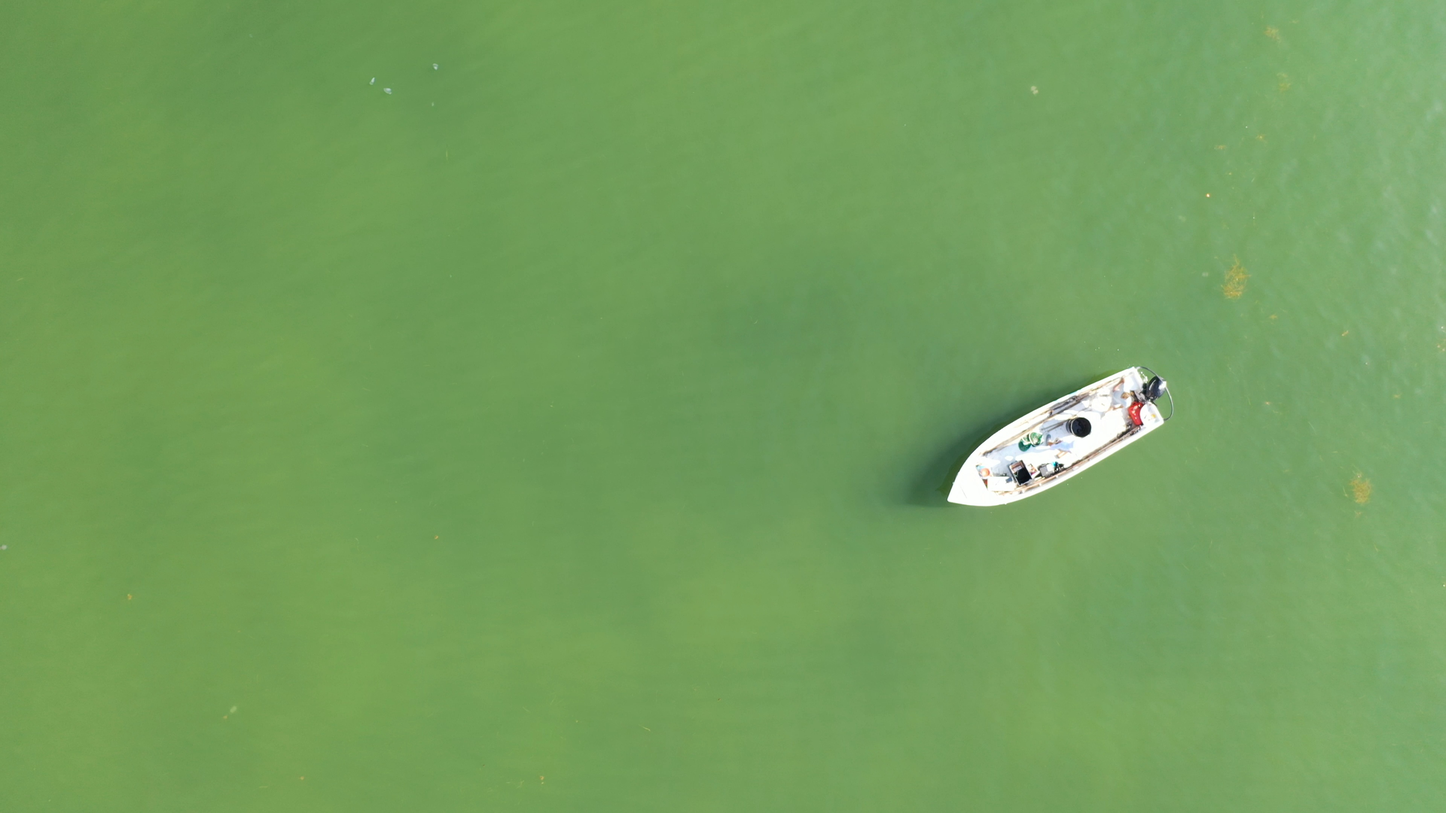meduse: (226, 706, 238, 713), (1030, 85, 1039, 94), (1202, 271, 1208, 278)
